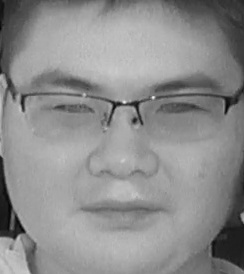eye: (51, 101, 96, 118), (156, 101, 196, 117)
glass: (21, 89, 115, 144), (137, 92, 230, 146)
mouth: (74, 192, 157, 228)
